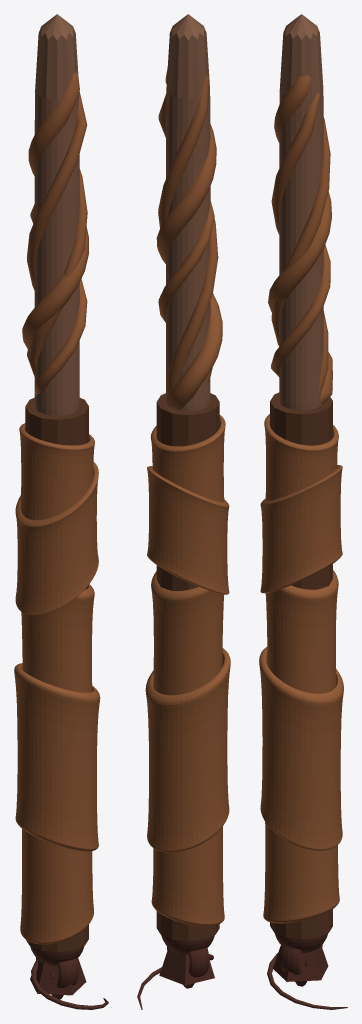
File: Wand 376.glb
3 views of the same model, side by side, from view 1: azimuth 30°, elevation 25°; view 2: azimuth 210°, elevation 25°; view 3: azimuth 330°, elevation 25° (orthographic).
Visible parts, largest first — view 1: GeneratedWand, Pommel_9, Pommel_4, Pommel_10, Pommel_2; view 2: GeneratedWand, Pommel_9, Pommel_4, Pommel_2; view 3: GeneratedWand, Pommel_9, Pommel_4, Pommel_2, Pommel_10.
Part boxes in pixels (left/top/right/bottom): GeneratedWand: left=14, top=14, right=100, bottom=952; Pommel_9: left=30, top=958, right=86, bottom=995; Pommel_4: left=30, top=946, right=84, bottom=966; Pommel_10: left=31, top=959, right=108, bottom=1009; Pommel_2: left=36, top=957, right=78, bottom=988; GeneratedWand: left=145, top=14, right=230, bottom=941; Pommel_9: left=159, top=948, right=214, bottom=985; Pommel_4: left=161, top=935, right=214, bottom=954; Pommel_2: left=167, top=946, right=209, bottom=977; GeneratedWand: left=259, top=14, right=343, bottom=939; Pommel_9: left=273, top=945, right=328, bottom=981; Pommel_4: left=274, top=933, right=328, bottom=953; Pommel_2: left=280, top=944, right=322, bottom=974; Pommel_10: left=267, top=953, right=347, bottom=1009.
Bounding box in the file's own units: 0.0462 × 0.521 × 0.0408.
